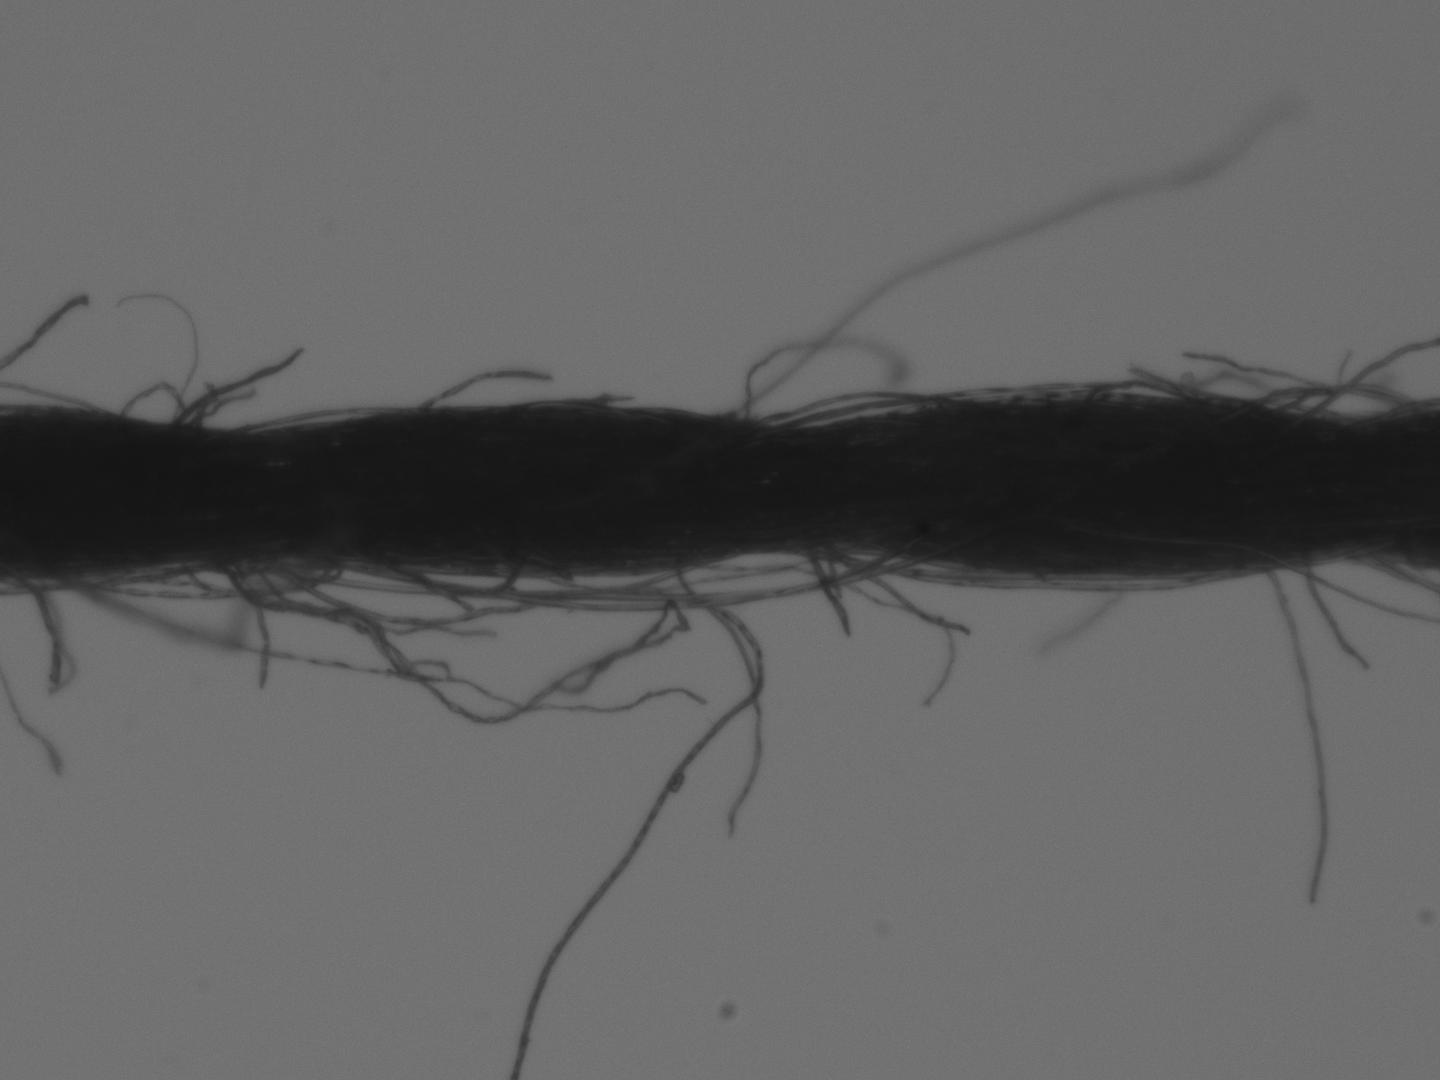loop_fiber: (535, 532, 927, 606), (755, 387, 952, 430), (184, 551, 341, 601), (379, 554, 523, 599), (1252, 380, 1408, 420), (113, 379, 215, 431), (1078, 379, 1219, 408), (235, 405, 404, 429)
protruding_fiber: (1260, 567, 1337, 906), (414, 365, 553, 415)
